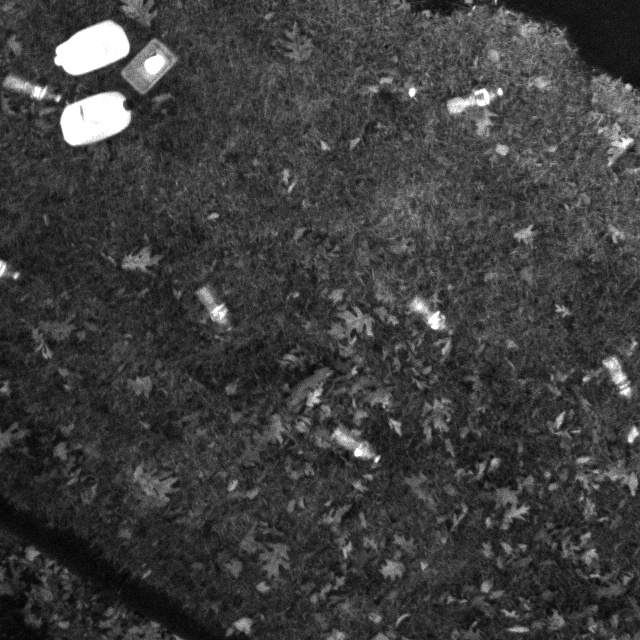bottle: (438, 73, 508, 122), (321, 421, 386, 472), (0, 67, 66, 112), (403, 291, 453, 343), (189, 280, 236, 335)
can: (52, 83, 137, 158), (45, 13, 133, 79)
container: (119, 33, 178, 101)
